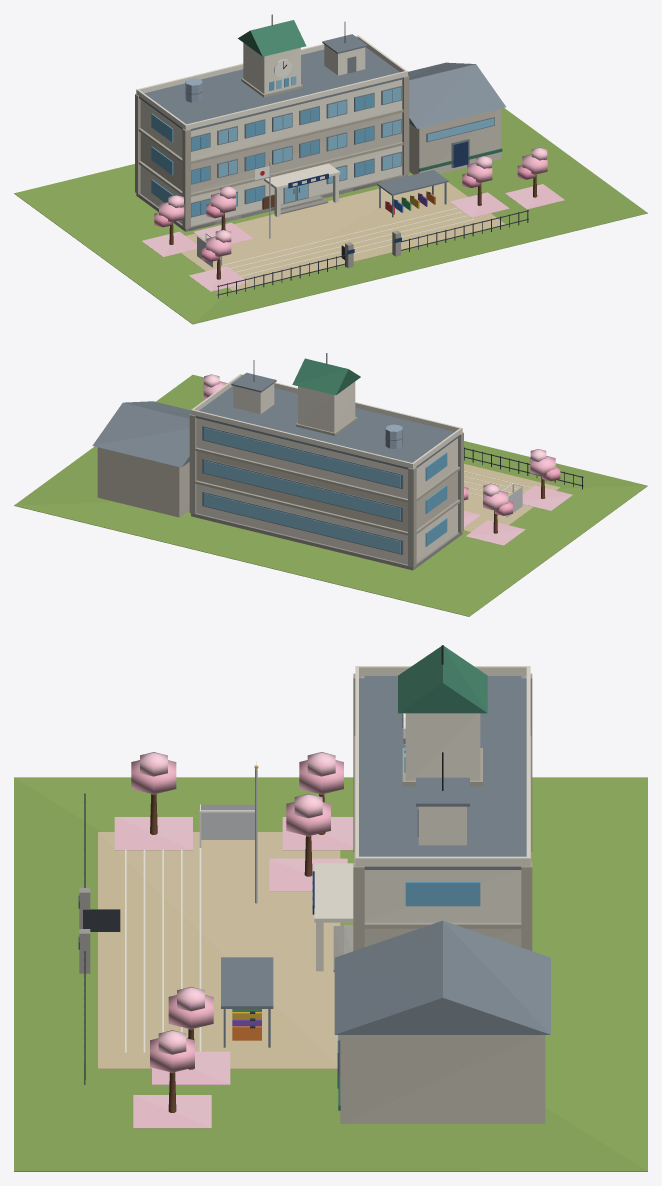
File: japanschool.glb
The picture shows the model from 3 angles, top to bottom: view 1: azimuth 30°, elevation 25°; view 2: azimuth 150°, elevation 25°; view 3: azimuth 270°, elevation 25°; orthographic projection. The views are drawn at different scales.
Visible parts, largest first — view 1: Ground, Schoolyard, Roof Slab, Floor 3 Wall, Floor 2 Wall, Gym Roof, Floor 1 Wall, Gym, Clock Tower, Tower Roof, Parapet Front, Ledge 2 (+16 smaller); view 2: Ground, Roof Slab, Gym, Gym Roof, Floor 3 Wall, Floor 1 Wall, Floor 2 Wall, Back Window Glass 2, Back Window Glass 1, Back Window Glass 3, Schoolyard, Clock Tower (+18 smaller); view 3: Ground, Schoolyard, Gym Roof, Roof Slab, Gym, Floor 3 Wall, Clock Tower, Tower Roof, Bike Shelter Roof, Petals 2, Petals 5, Entrance Canopy (+21 smaller).
Part boxes in pixels (box(x1,y1,x2,y2)): Ground: box(14, 108, 647, 324); Schoolyard: box(181, 182, 505, 290); Roof Slab: box(139, 47, 403, 130); Floor 3 Wall: box(140, 79, 402, 160); Floor 2 Wall: box(140, 112, 402, 193); Gym Roof: box(408, 62, 505, 128); Floor 1 Wall: box(140, 145, 402, 225); Gym: box(409, 108, 501, 174); Clock Tower: box(243, 43, 300, 94); Tower Roof: box(238, 20, 306, 56); Parapet Front: box(184, 70, 407, 130); Ledge 2: box(138, 109, 403, 163); Ground: box(14, 374, 647, 616); Roof Slab: box(195, 386, 459, 469); Gym: box(97, 447, 189, 517); Gym Roof: box(92, 401, 190, 467); Floor 3 Wall: box(196, 418, 457, 498); Floor 1 Wall: box(196, 484, 457, 564); Floor 2 Wall: box(196, 451, 457, 531); Back Window Glass 2: box(204, 460, 400, 520); Back Window Glass 1: box(204, 493, 400, 553); Back Window Glass 3: box(204, 427, 400, 487); Schoolyard: box(464, 464, 560, 532); Clock Tower: box(298, 381, 355, 432); Ground: box(14, 777, 647, 1171); Schoolyard: box(98, 832, 340, 1068); Gym Roof: box(334, 920, 550, 1034); Roof Slab: box(359, 676, 526, 869); Gym: box(340, 1035, 545, 1123); Floor 3 Wall: box(364, 870, 521, 922); Clock Tower: box(405, 713, 480, 780); Tower Roof: box(398, 646, 487, 713); Bike Shelter Roof: box(221, 957, 273, 1008); Petals 2: box(114, 817, 192, 850); Petals 5: box(133, 1095, 211, 1128); Entrance Canopy: box(314, 863, 353, 922).
Bounding box in the file's own units: 50 × 18.1 × 34.
